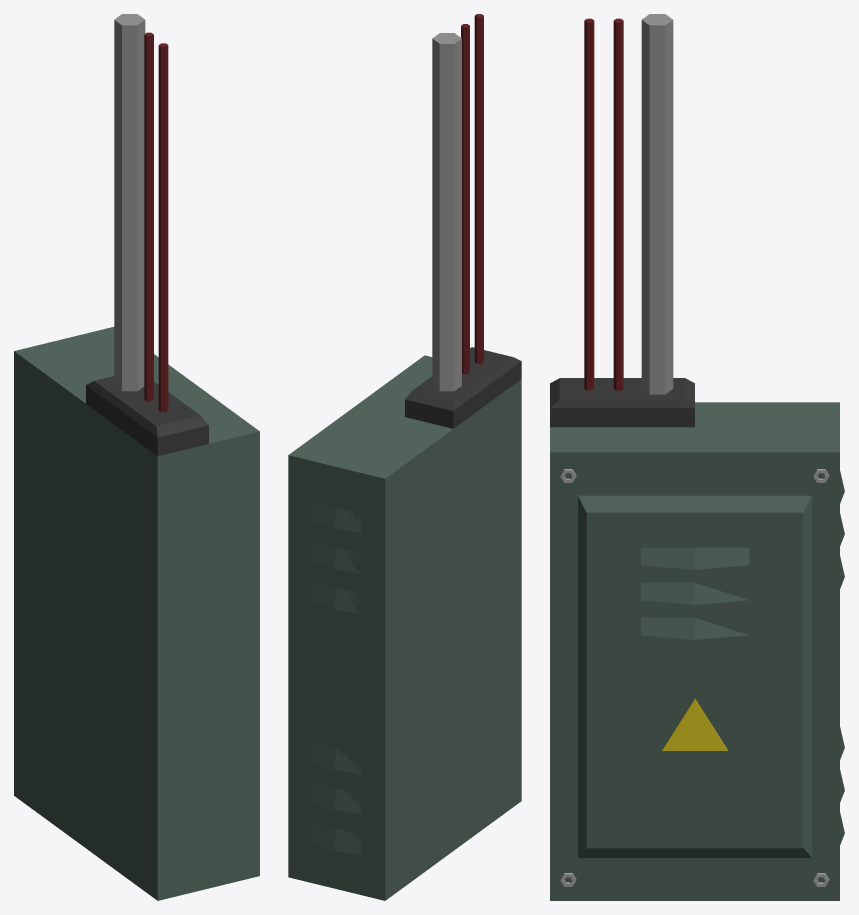
Rendered from asset_caja_elec.fbx.
3 views of the same model, side by side, from view 1: azimuth 30°, elevation 25°; view 2: azimuth 150°, elevation 25°; view 3: azimuth 270°, elevation 25° (orthographic). The views are drawn at different scales.
Parts seen in each view (by area): view 1: caja, cable1, cable2; view 2: caja, cable1, cable2; view 3: caja, cable1, cable2, tuercas.
Boxes of the visible parts, bbox=[...] form: caja: bbox=[14, 327, 259, 900]; cable1: bbox=[114, 14, 145, 391]; cable2: bbox=[144, 32, 168, 411]; caja: bbox=[288, 347, 521, 900]; cable1: bbox=[432, 33, 461, 391]; cable2: bbox=[461, 14, 483, 374]; caja: bbox=[550, 378, 844, 900]; cable1: bbox=[641, 14, 673, 394]; cable2: bbox=[584, 18, 623, 390]; tuercas: bbox=[560, 469, 829, 886].
Bounding box in the file's own units: 50.91 × 341 × 108.
